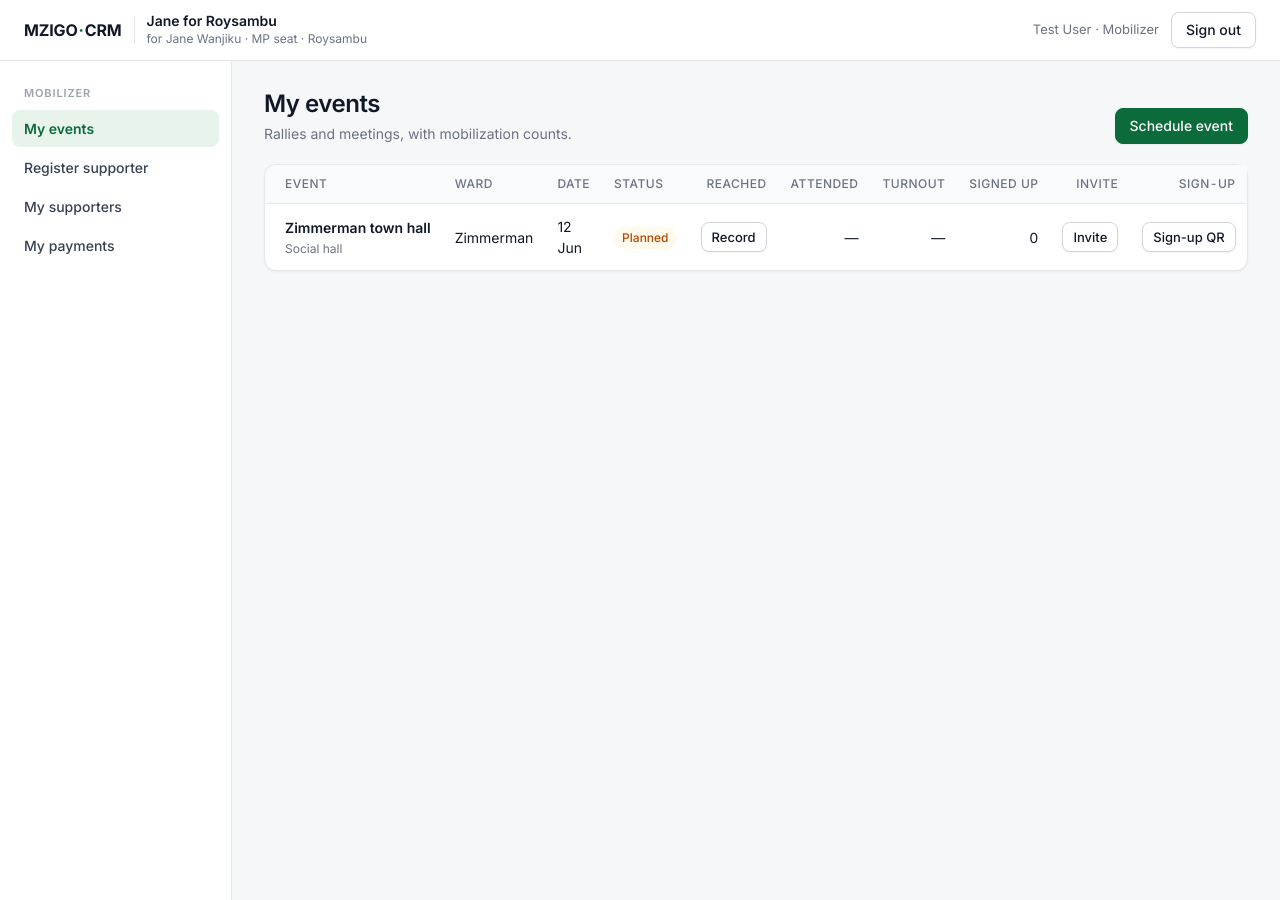
it: registering a supporter in an MCA race › waits for a centre when the mobilizer has none
expect the button "My events" is shown: met, box [12, 110, 219, 147]
Click the button "Register supporter" at (116, 167), box [12, 149, 219, 186]
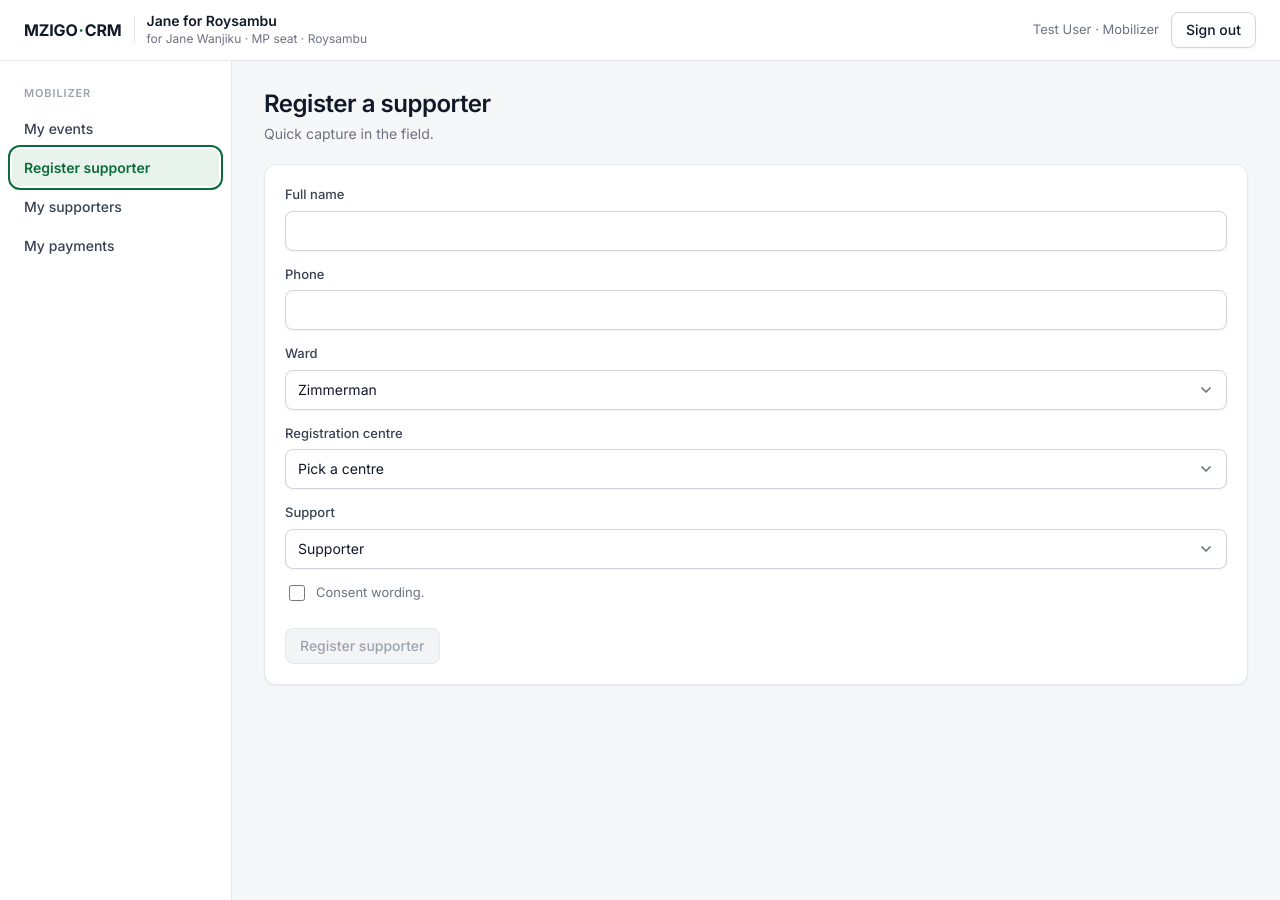
Type "Wanjiku Njeri" into the 1st field at (756, 231), box [285, 211, 1227, 251]
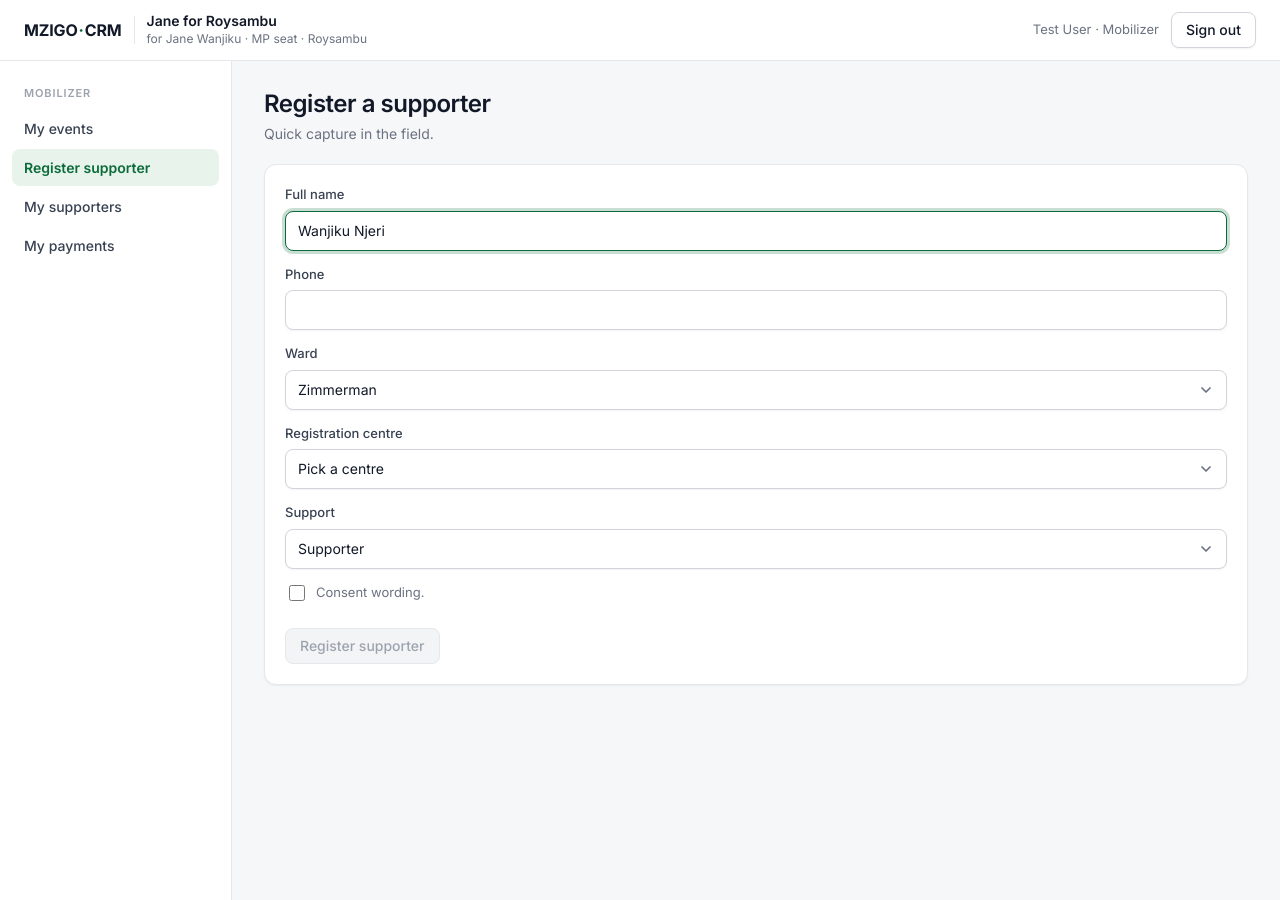
Click the checkbox at (297, 593), box [289, 585, 305, 601]
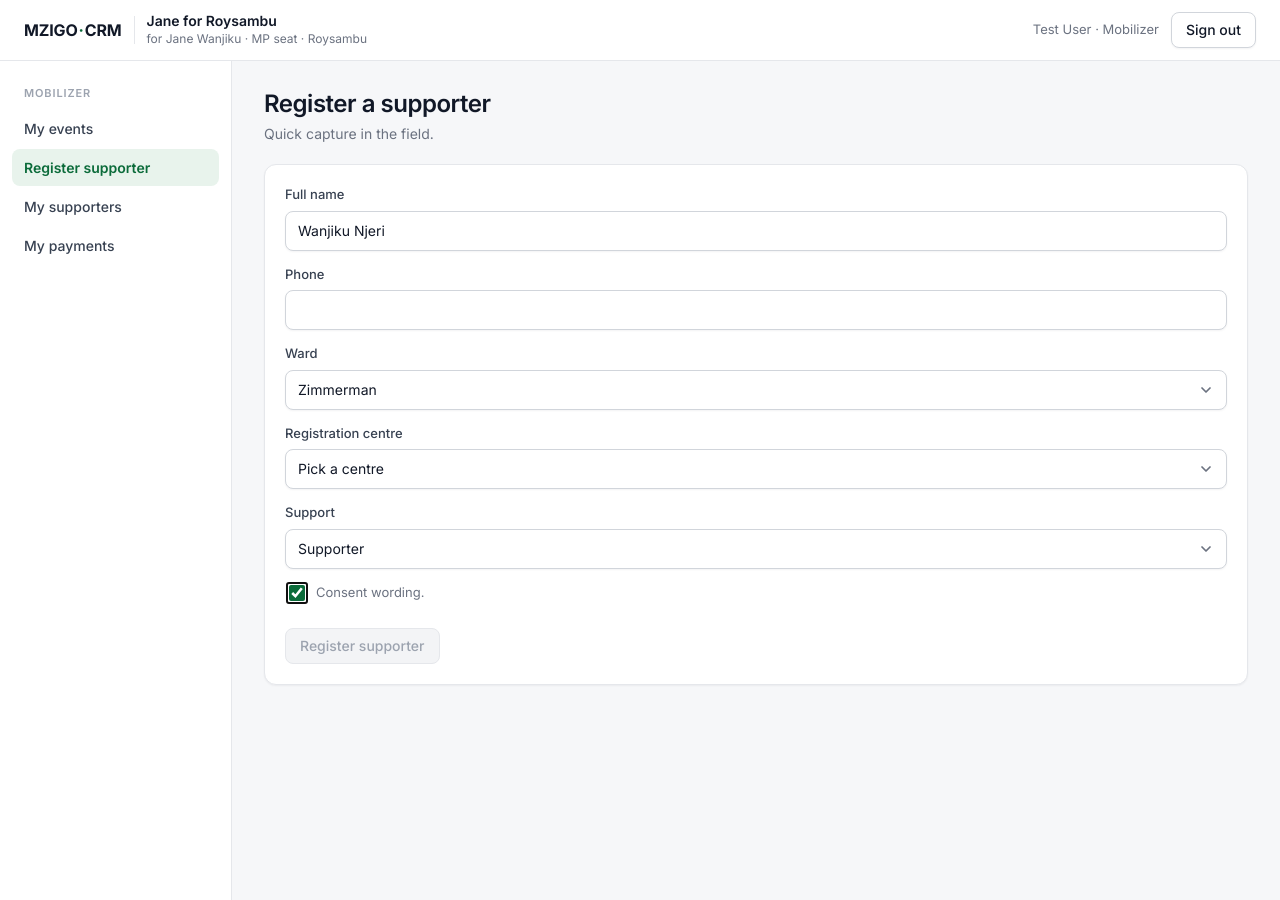
expect the button "Register supporter" below "Consent wording." is disabled: met, box [285, 628, 440, 664]
Select "Zimmerman Primary" in the dropdown named "Registration centre" at (756, 469), box [285, 449, 1227, 489]
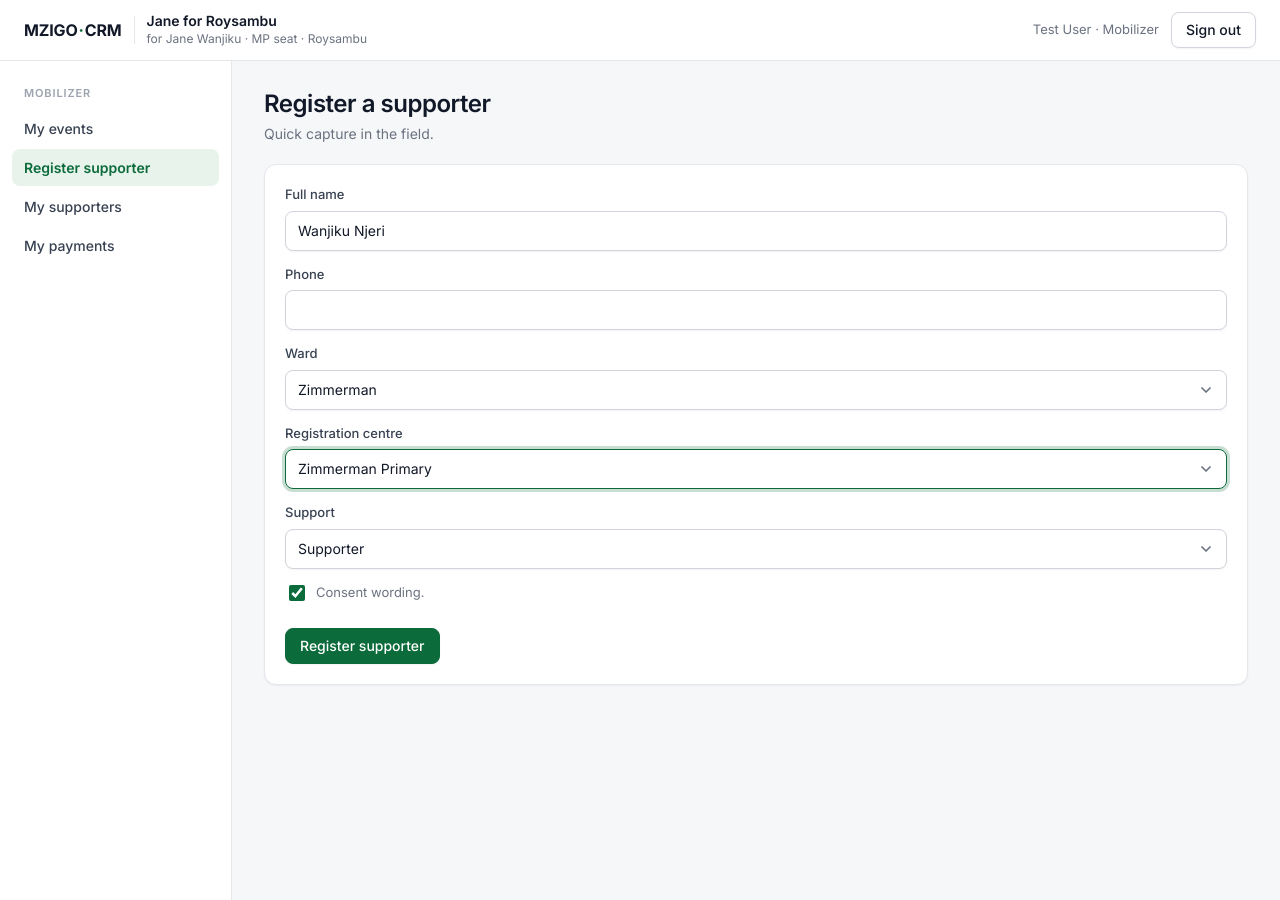
expect the button "Register supporter" below "Consent wording." is enabled: met, box [285, 628, 440, 664]
